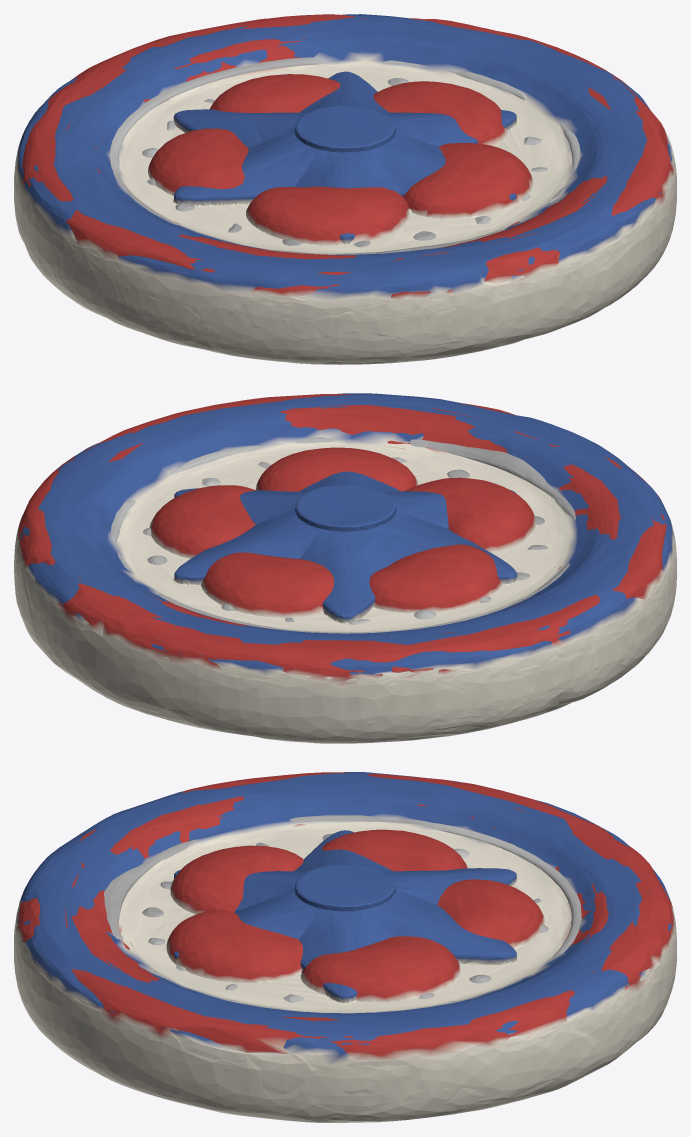
The model's file is pieces.glb.
3 renders of one model, top to bottom at view 1: azimuth 30°, elevation 25°; view 2: azimuth 150°, elevation 25°; view 3: azimuth 270°, elevation 25°, orthographic.
Parts seen in each view (by area): view 1: token_p2, token_p1, coin_red; view 2: token_p2, token_p1, coin_red; view 3: token_p2, token_p1, coin_red.
Part boxes in pixels (x1,y1,x2,y2): token_p2: [14, 14, 675, 363]; token_p1: [14, 14, 676, 364]; coin_red: [109, 57, 580, 254]; token_p2: [16, 393, 676, 742]; token_p1: [14, 394, 676, 743]; coin_red: [111, 437, 575, 633]; token_p2: [14, 772, 674, 1122]; token_p1: [14, 772, 676, 1122]; coin_red: [104, 815, 581, 1012].
Size of the model in its own units: 0.4142 by 0.0749 by 0.4142.
